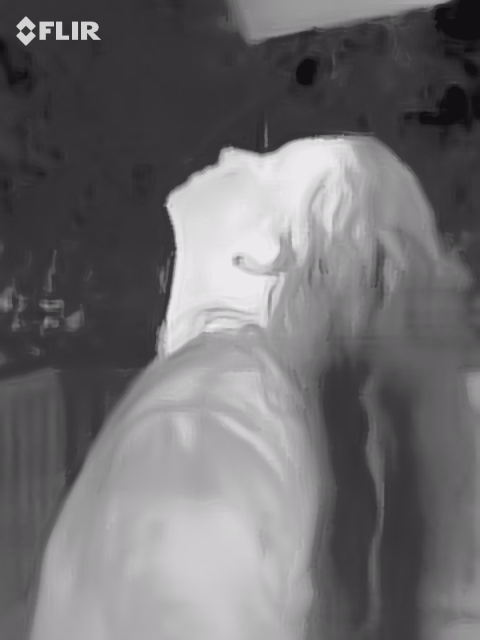head: (166, 128, 380, 277)
